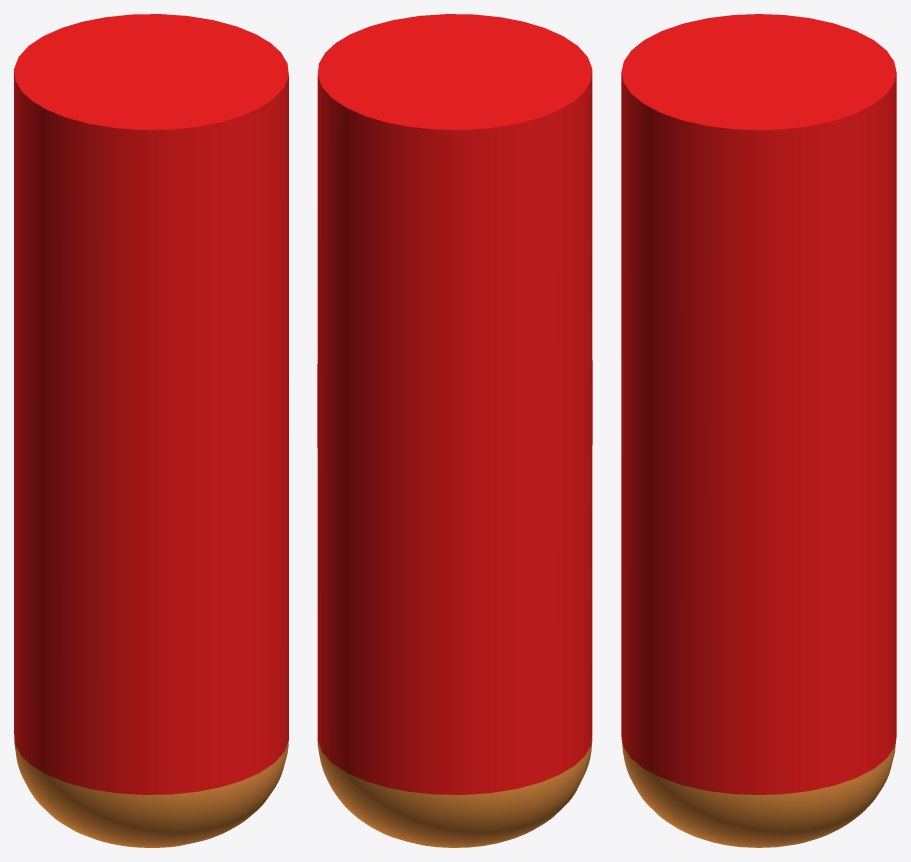
The model's file is mega dart.fbx.
3 renders of one model, left to right at view 1: azimuth 30°, elevation 25°; view 2: azimuth 150°, elevation 25°; view 3: azimuth 270°, elevation 25°, orthographic.
Parts seen in each view (by area): view 1: MEGA DART; view 2: MEGA DART; view 3: MEGA DART.
Part boxes in pixels (x1,y1,x2,y2): MEGA DART: [14, 14, 288, 847]; MEGA DART: [317, 14, 592, 847]; MEGA DART: [621, 14, 896, 847].
Bounding box in the file's own units: 150 × 450 × 150.
